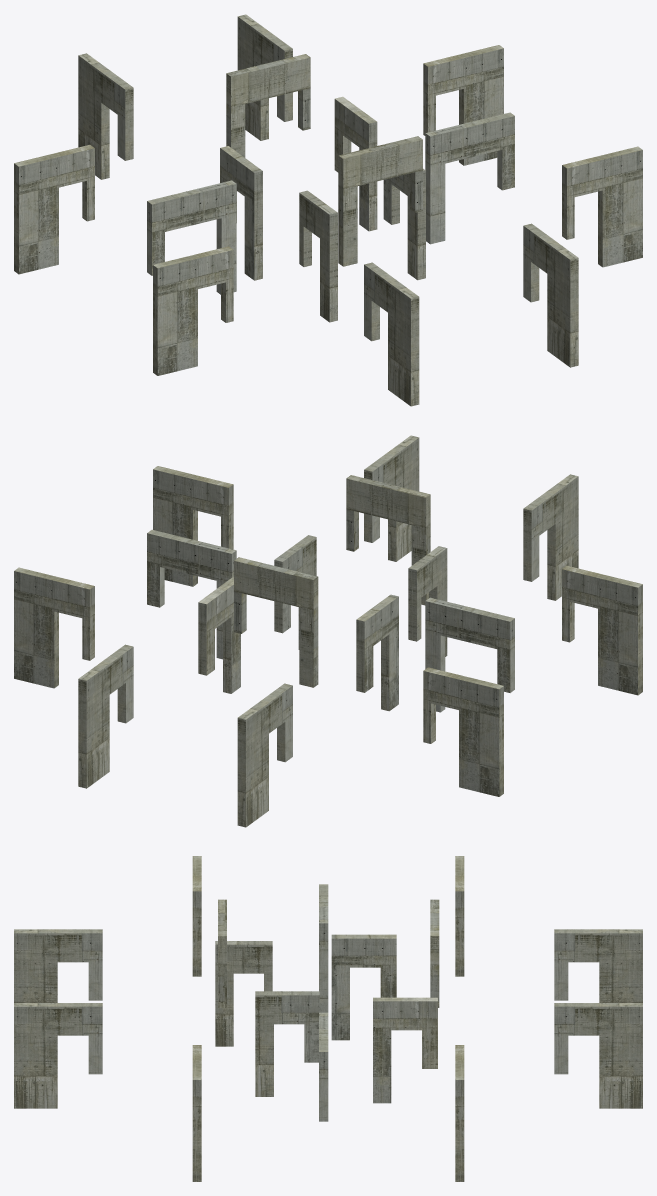
File: SM_LDFest_03_SHADOW.001.fbx
3 renders of one model, top to bottom at view 1: azimuth 30°, elevation 25°; view 2: azimuth 150°, elevation 25°; view 3: azimuth 270°, elevation 25°, orthographic. The views are drawn at different scales.
Visible parts, largest first — view 1: SM_LDFest_03_SHADOW.001; view 2: SM_LDFest_03_SHADOW.001; view 3: SM_LDFest_03_SHADOW.001.
Part boxes in pixels (box(x1,y1,x2,y2)): SM_LDFest_03_SHADOW.001: box(14, 14, 642, 406); SM_LDFest_03_SHADOW.001: box(14, 435, 642, 827); SM_LDFest_03_SHADOW.001: box(14, 856, 642, 1181).
Bounding box in the file's own units: 4106 × 1284 × 4874.
